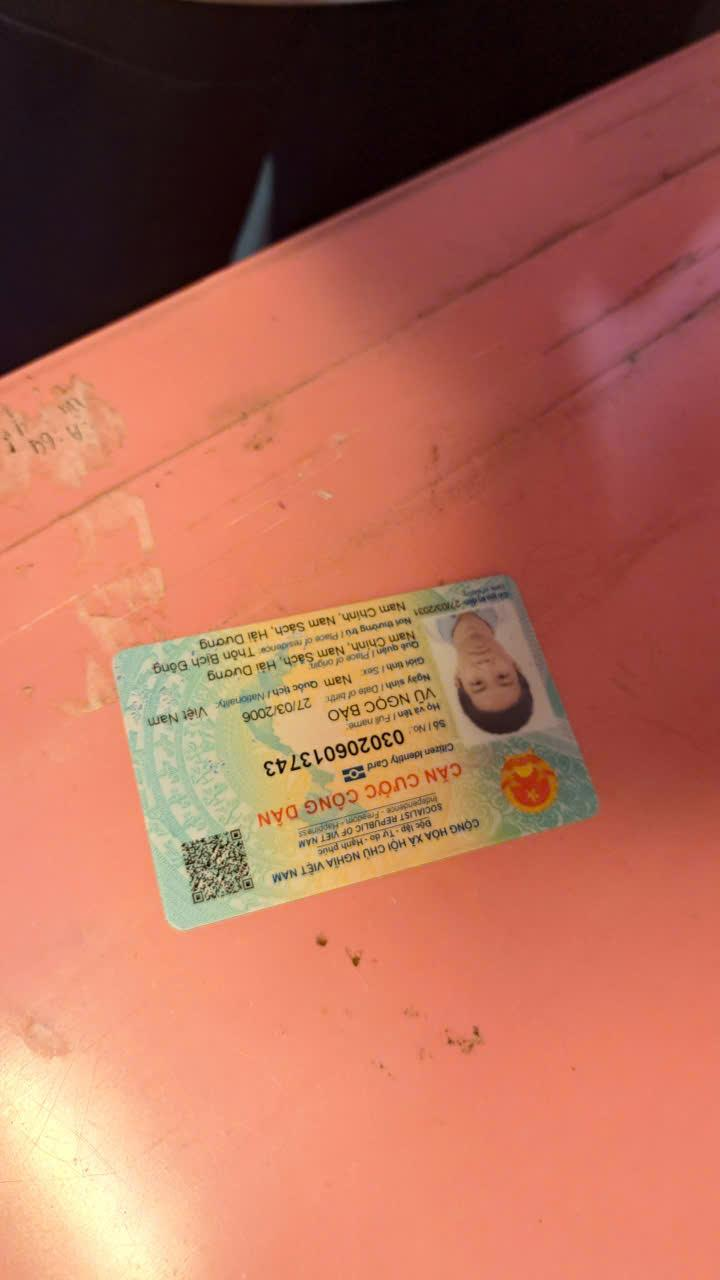cccd: (96, 567, 622, 948)
